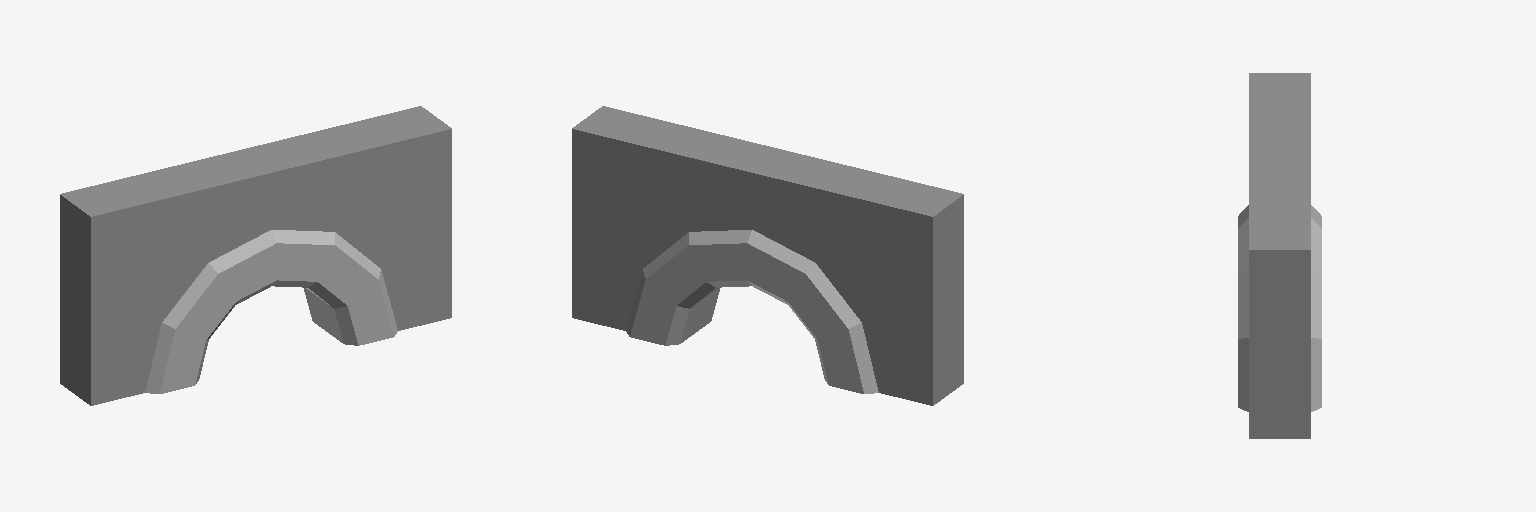
File: struct_wall_big_door_upper.obj
3 views of the same model, side by side, from view 1: azimuth 30°, elevation 25°; view 2: azimuth 150°, elevation 25°; view 3: azimuth 270°, elevation 25° (orthographic).
Visible parts, largest first — view 1: struct_wall_big_door_upper, struct_wall_big_door_upper_2; view 2: struct_wall_big_door_upper, struct_wall_big_door_upper_2; view 3: struct_wall_big_door_upper, struct_wall_big_door_upper_2.
Boxes of the visible parts, <box> form: struct_wall_big_door_upper: <box>60,106,451,405</box>; struct_wall_big_door_upper_2: <box>145,230,397,393</box>; struct_wall_big_door_upper: <box>572,106,963,405</box>; struct_wall_big_door_upper_2: <box>626,230,878,393</box>; struct_wall_big_door_upper: <box>1249,73,1310,438</box>; struct_wall_big_door_upper_2: <box>1238,205,1321,411</box>.
Size of the model in its own units: 2 by 1 by 0.4.